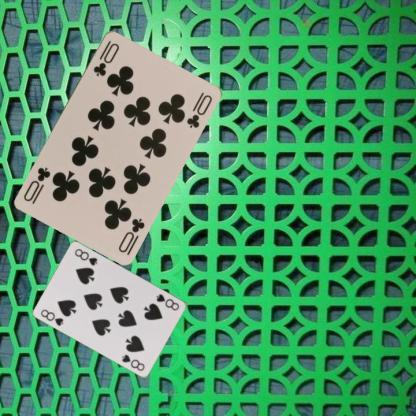10c: (90, 37, 121, 77), (116, 215, 146, 254)
8s: (38, 306, 65, 327), (154, 292, 180, 312)
